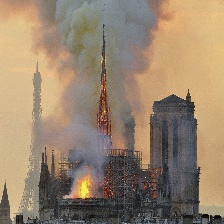fire: (69, 178, 97, 199)
smoke: (28, 1, 167, 171)
